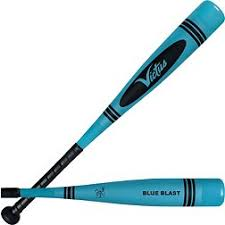baseball bat: (1, 1, 225, 225), (1, 177, 224, 206)
